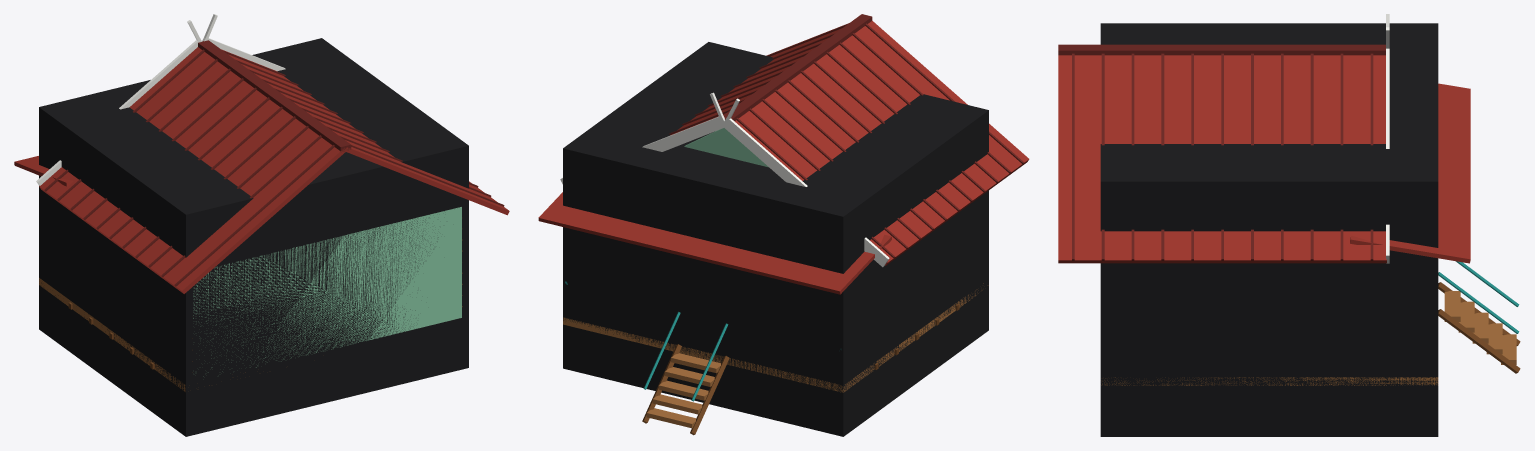
The model's file is env_kb_house_mint.fbx.
3 views of the same model, side by side, from view 1: azimuth 30°, elevation 25°; view 2: azimuth 150°, elevation 25°; view 3: azimuth 270°, elevation 25° (orthographic). The views are drawn at different scales.
Visible parts, largest first — view 1: COL_env_kb_house_mint, env_kb_house_mint_geo_LOD0; view 2: COL_env_kb_house_mint, env_kb_house_mint_geo_LOD0; view 3: COL_env_kb_house_mint, env_kb_house_mint_geo_LOD0.
Boxes of the visible parts, x1,y1,x2,y2 form: COL_env_kb_house_mint: (39, 38, 468, 436); env_kb_house_mint_geo_LOD0: (14, 14, 509, 391); COL_env_kb_house_mint: (563, 42, 988, 436); env_kb_house_mint_geo_LOD0: (538, 14, 1029, 435); COL_env_kb_house_mint: (1100, 23, 1438, 436); env_kb_house_mint_geo_LOD0: (1058, 14, 1520, 385).
Size of what is drawn, in the model's own units: 9.36 by 7.98 by 9.85.
